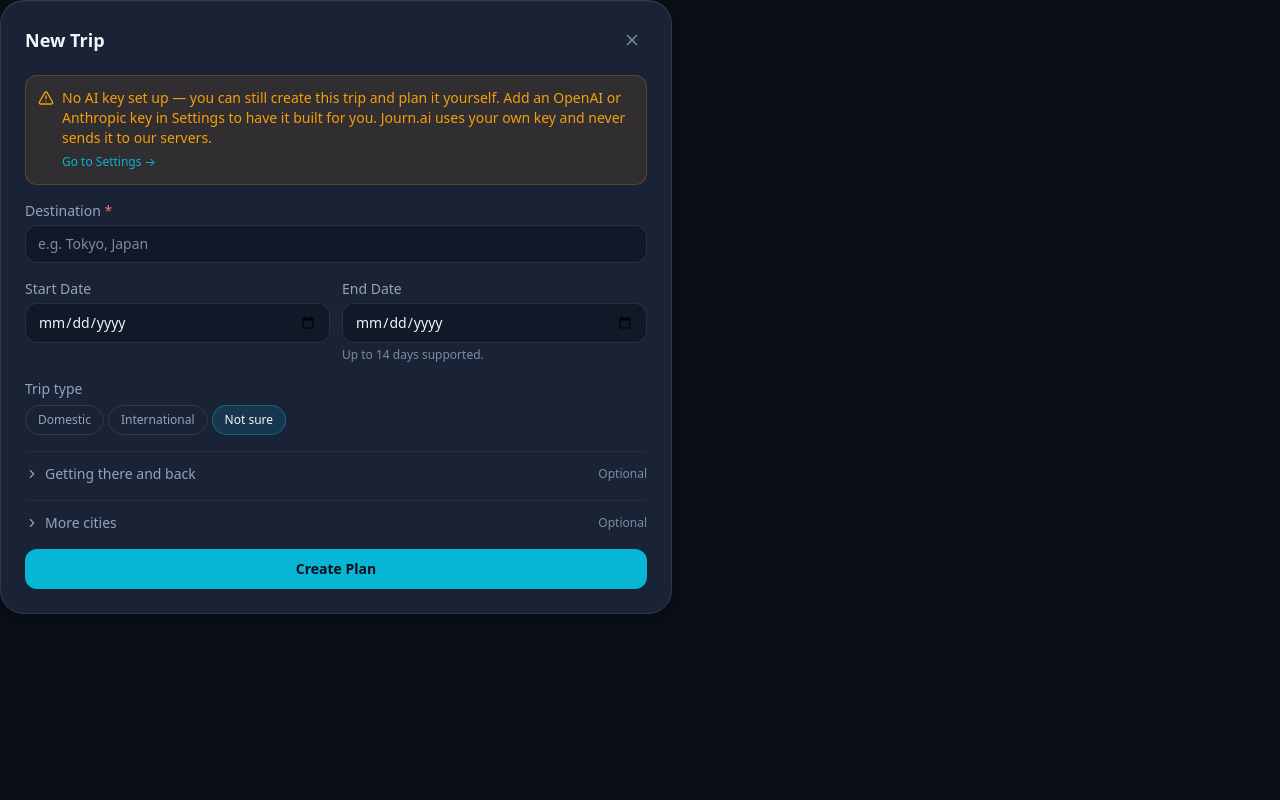
Test: choosing international › fills in the flight, the airport and the dates
Type "Tokyo, Japan" into the dropdown with test id "destination-input" at coordinates (336, 244), box [25,225,647,263]
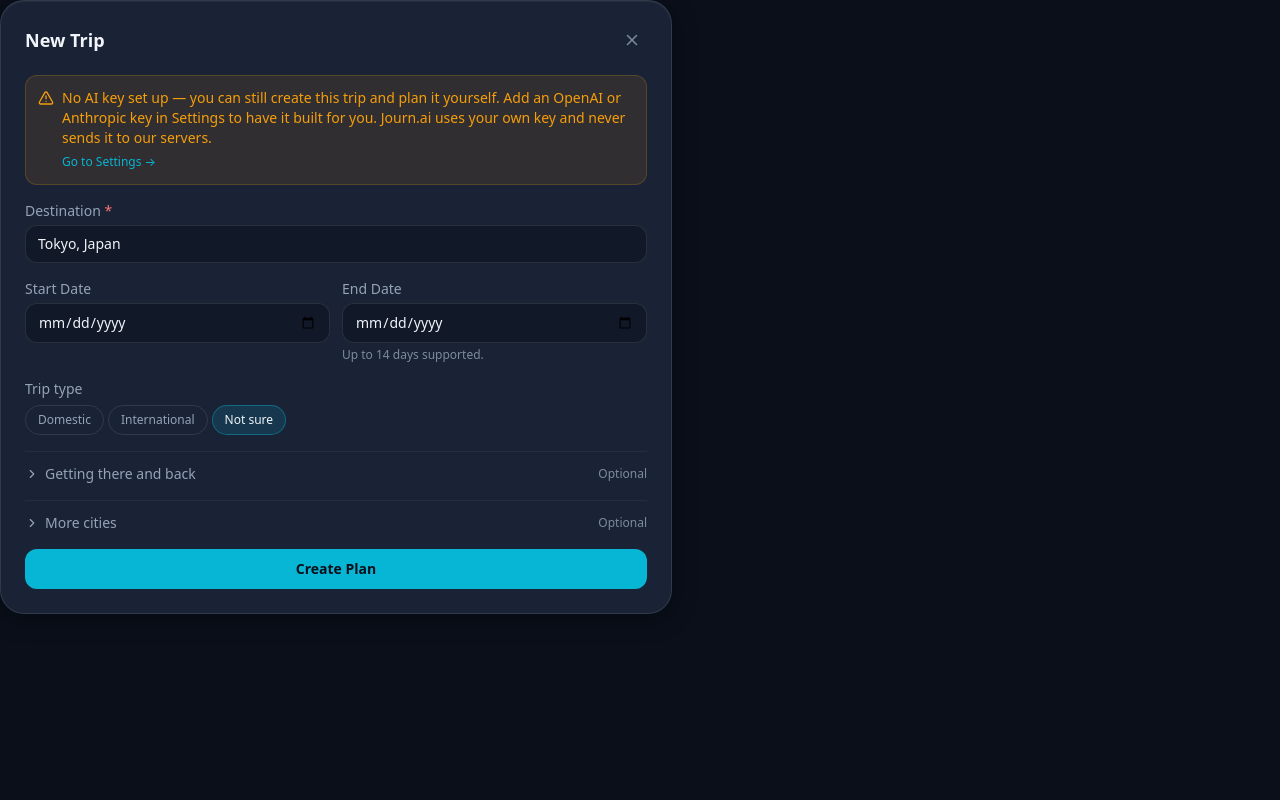
Type "2025-07-14" into the date field with test id "start-date-input" at coordinates (178, 323), box [25,303,330,343]
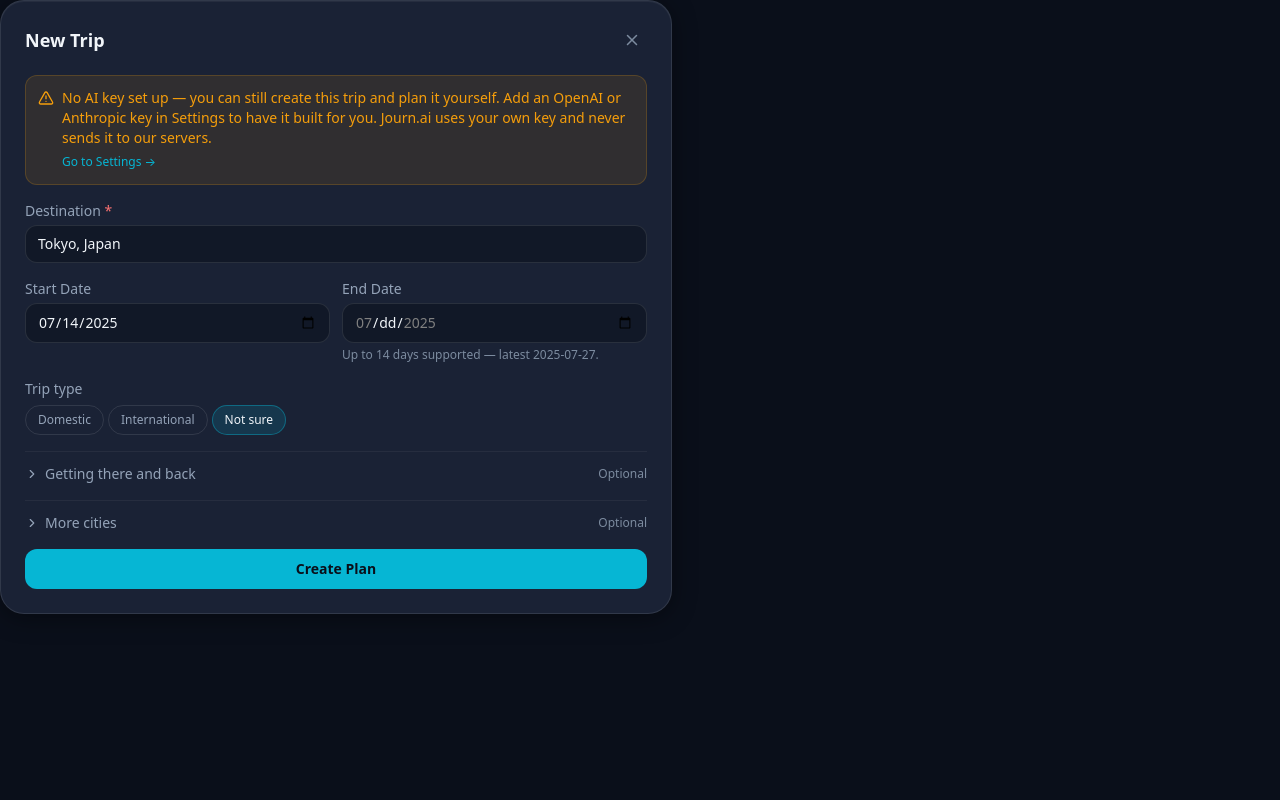
Type "2025-07-21" into the date field with test id "end-date-input" at coordinates (494, 323), box [342,303,647,343]
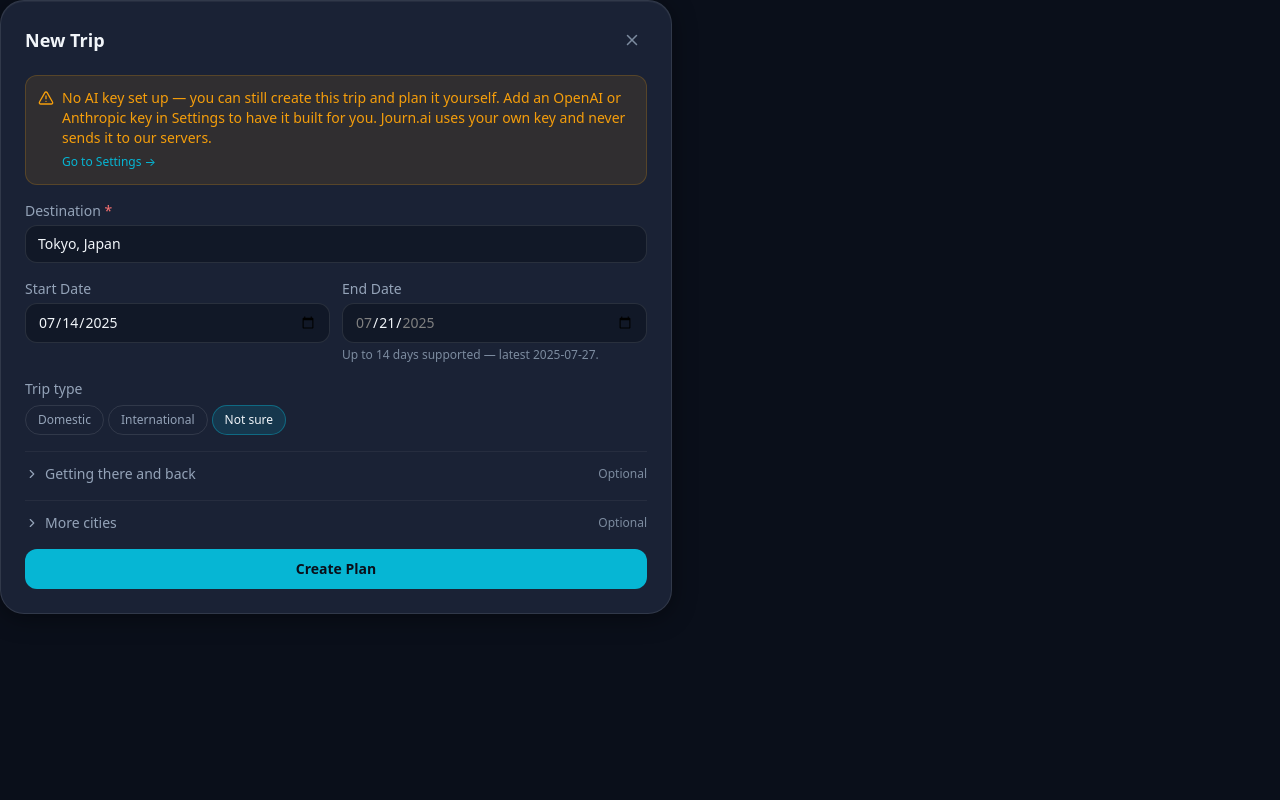
Click the button with test id "border-international" at coordinates (158, 420), box [108,405,208,435]
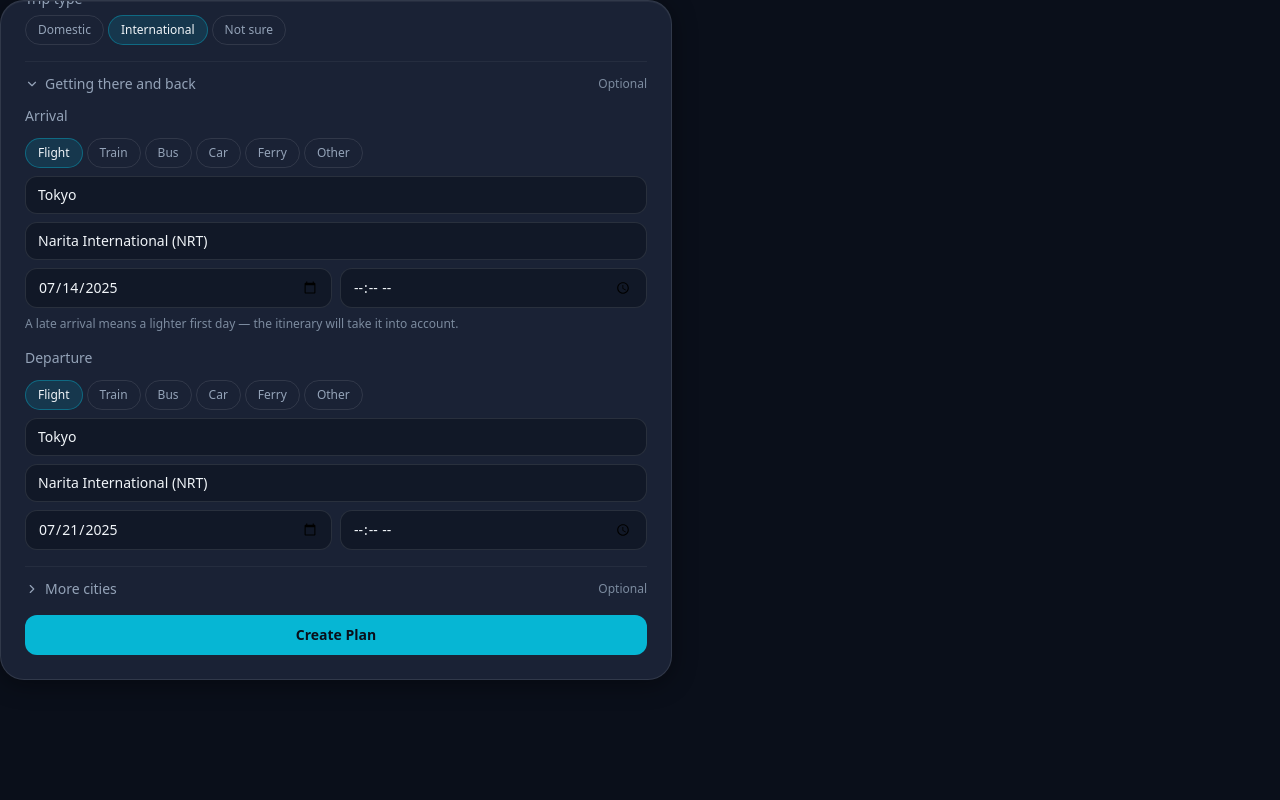
Check: the field with test id "arrival-city" holds "Tokyo", box [25,176,647,214]
Check: the field with test id "arrival-airport" holds "Narita International (NRT)", box [25,222,647,260]
Check: the date field with test id "arrival-date" holds "2025-07-14", box [25,268,332,308]
